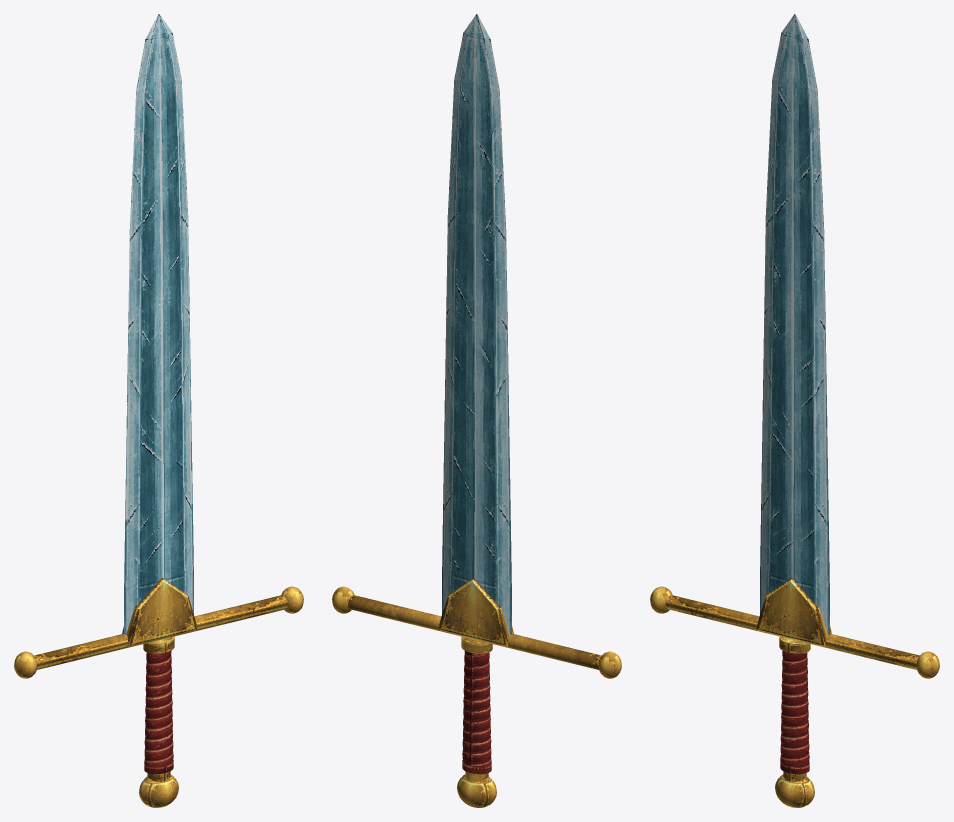
File: broadsword.glb
The picture shows the model from 3 angles, left to right: view 1: azimuth 30°, elevation 25°; view 2: azimuth 150°, elevation 25°; view 3: azimuth 330°, elevation 25°; orthographic projection.
Parts seen in each view (by area): view 1: Blade, Leather_Wrap, Triangular_Langet, Crossguard, Round_Pommel; view 2: Blade, Leather_Wrap, Triangular_Langet, Crossguard, Round_Pommel; view 3: Blade, Leather_Wrap, Triangular_Langet, Crossguard, Round_Pommel.
Boxes of the visible parts, bbox=[...] form: Blade: bbox=[124, 14, 193, 634]; Leather_Wrap: bbox=[144, 650, 173, 767]; Triangular_Langet: bbox=[122, 578, 197, 646]; Crossguard: bbox=[34, 595, 287, 669]; Round_Pommel: bbox=[139, 774, 178, 807]; Blade: bbox=[442, 14, 511, 634]; Leather_Wrap: bbox=[462, 651, 491, 770]; Triangular_Langet: bbox=[438, 578, 513, 646]; Crossguard: bbox=[348, 595, 601, 669]; Round_Pommel: bbox=[457, 774, 496, 807]; Blade: bbox=[760, 14, 829, 634]; Leather_Wrap: bbox=[780, 651, 809, 767]; Triangular_Langet: bbox=[756, 578, 831, 646]; Crossguard: bbox=[666, 595, 919, 669]; Round_Pommel: bbox=[775, 774, 814, 807].
Bounding box in the file's own units: 0.4029 × 1.06 × 0.038.
Materials: 1 (1 with a texture image).
